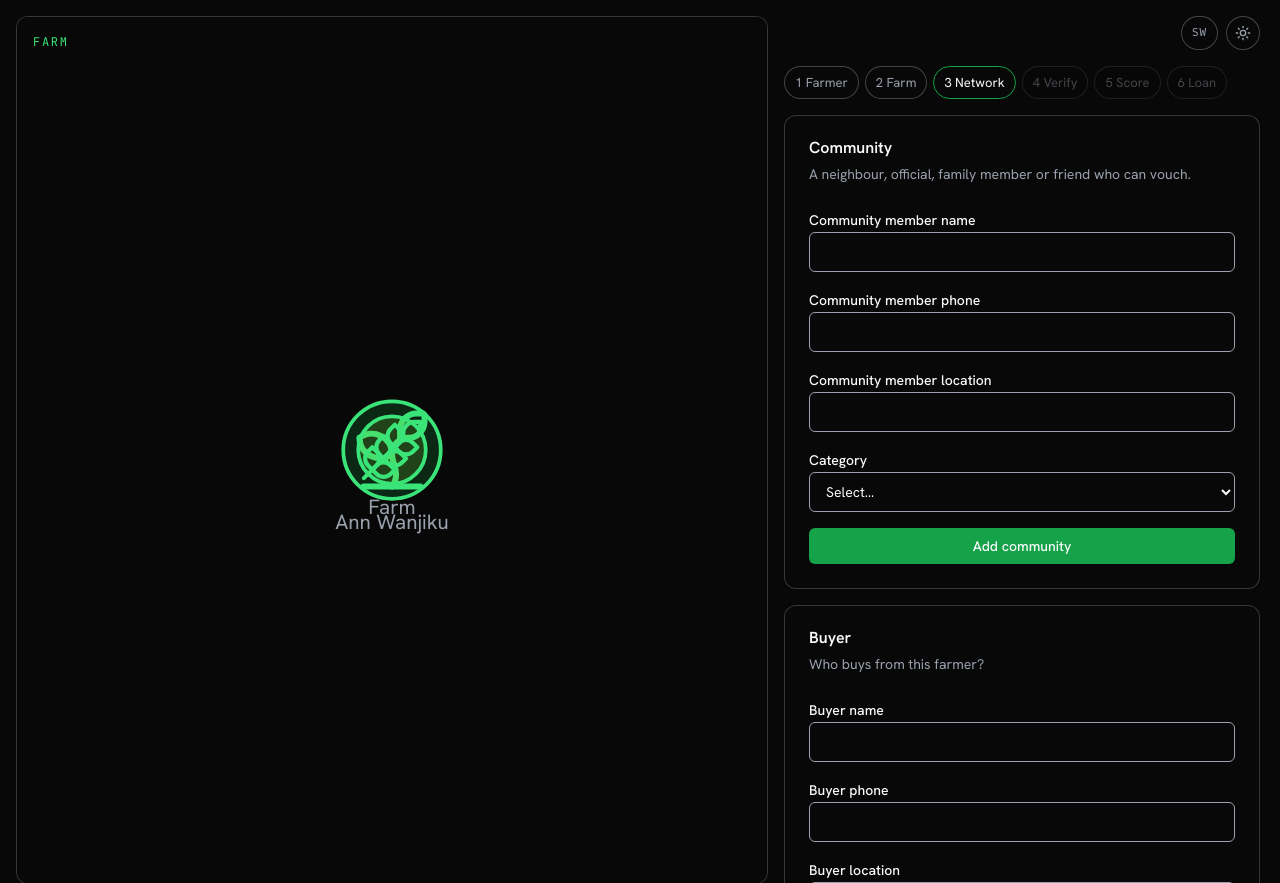
Test: Step 3 — Network › 7. a failed link leaves no ghost node and shows the error
Expected: the button "Add community" is shown, [809,528,1235,564]
In the field labelled "Community member name": (1022, 252) [809,232,1235,272], type "Kariuki"
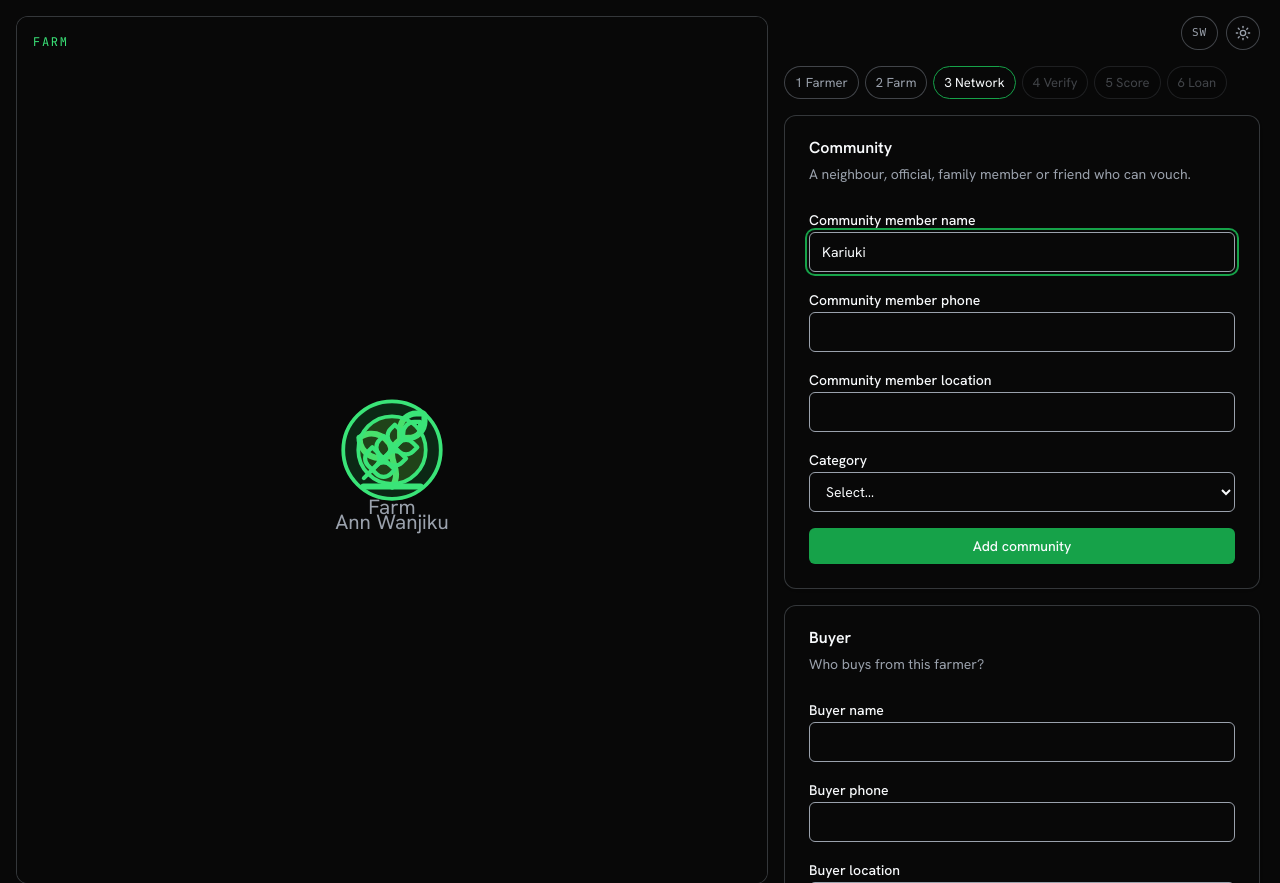
In the field labelled "Community member phone": (1022, 332) [809,312,1235,352], type "0711111111"
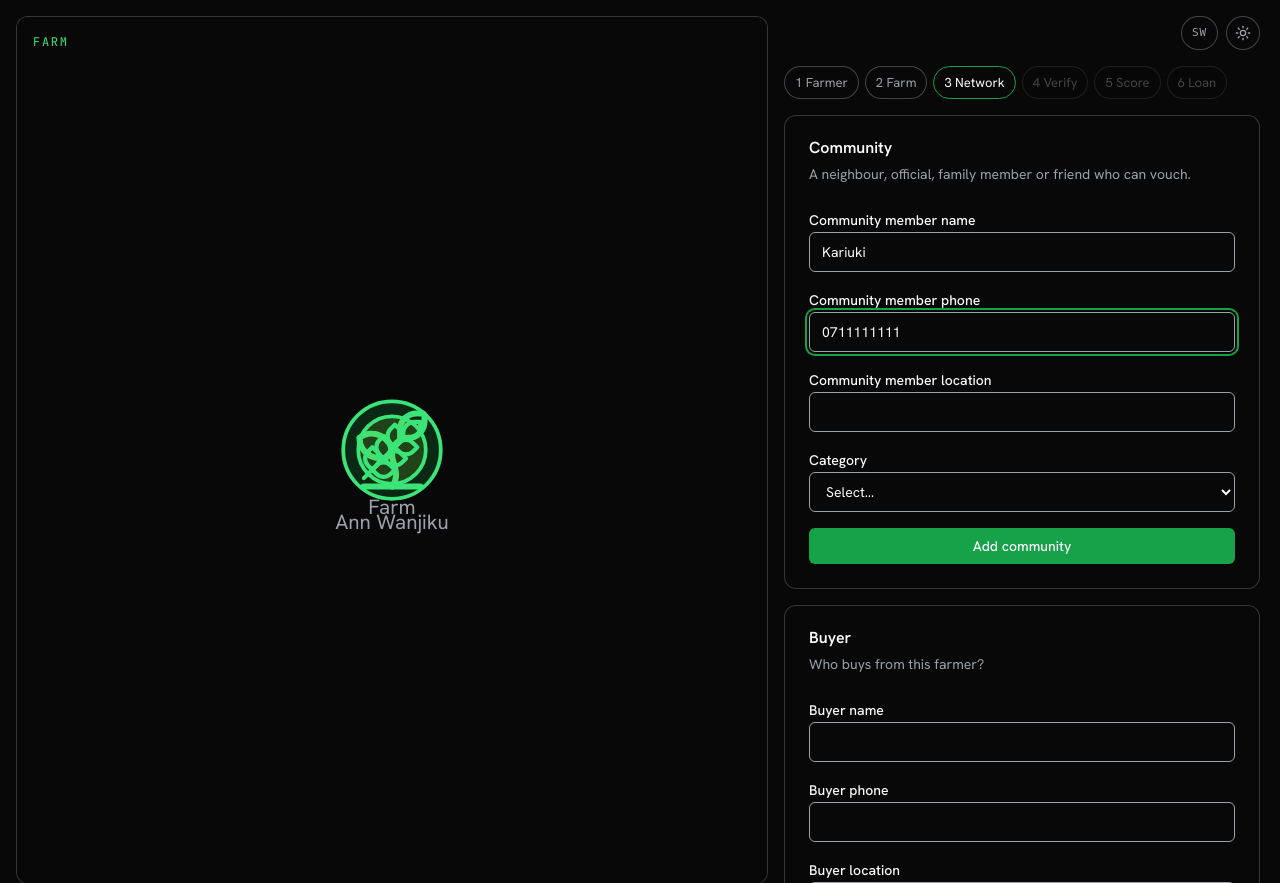
In the field labelled "Community member location": (1022, 412) [809,392,1235,432], type "Nakuru"
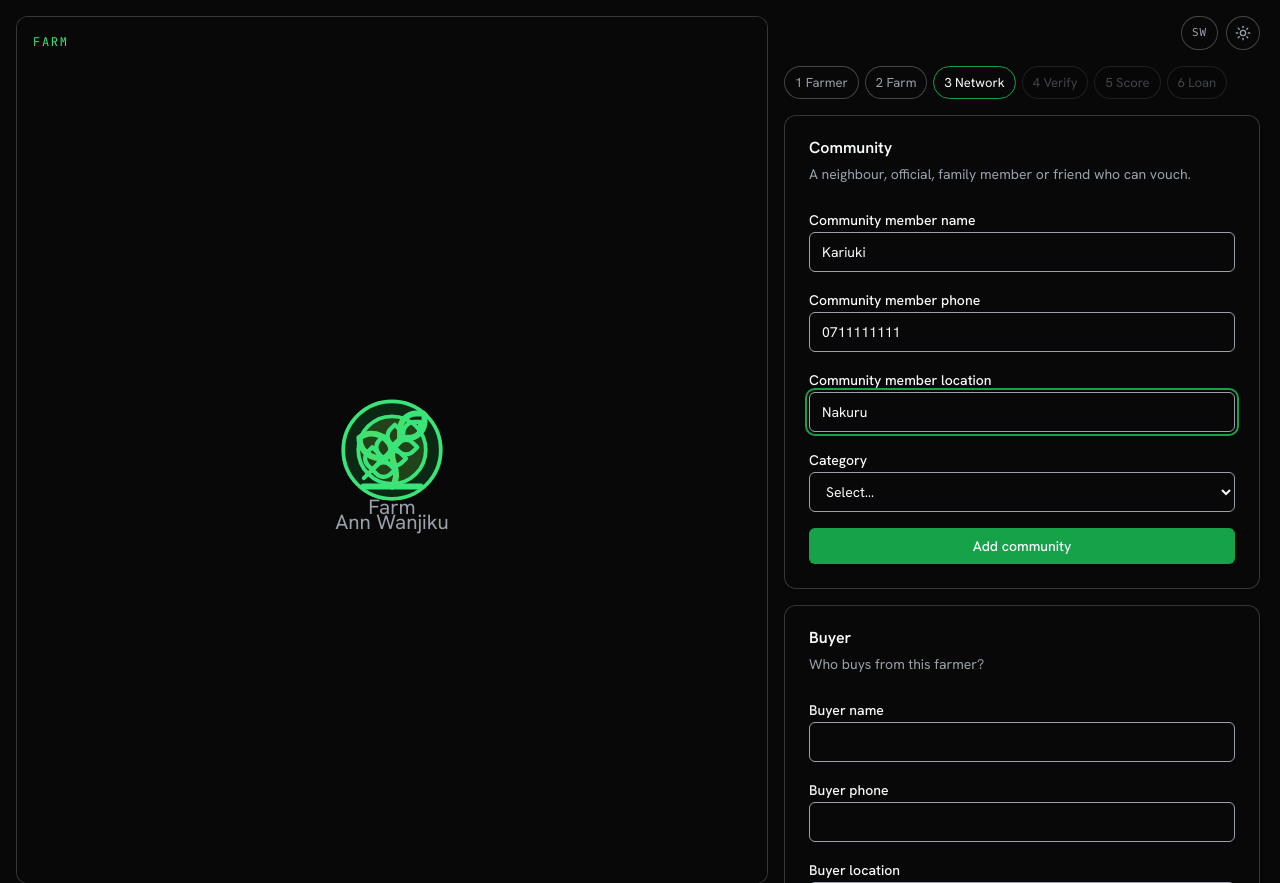
Select "administrative official" in the dropdown labelled "Category": (1022, 492) [809,472,1235,512]
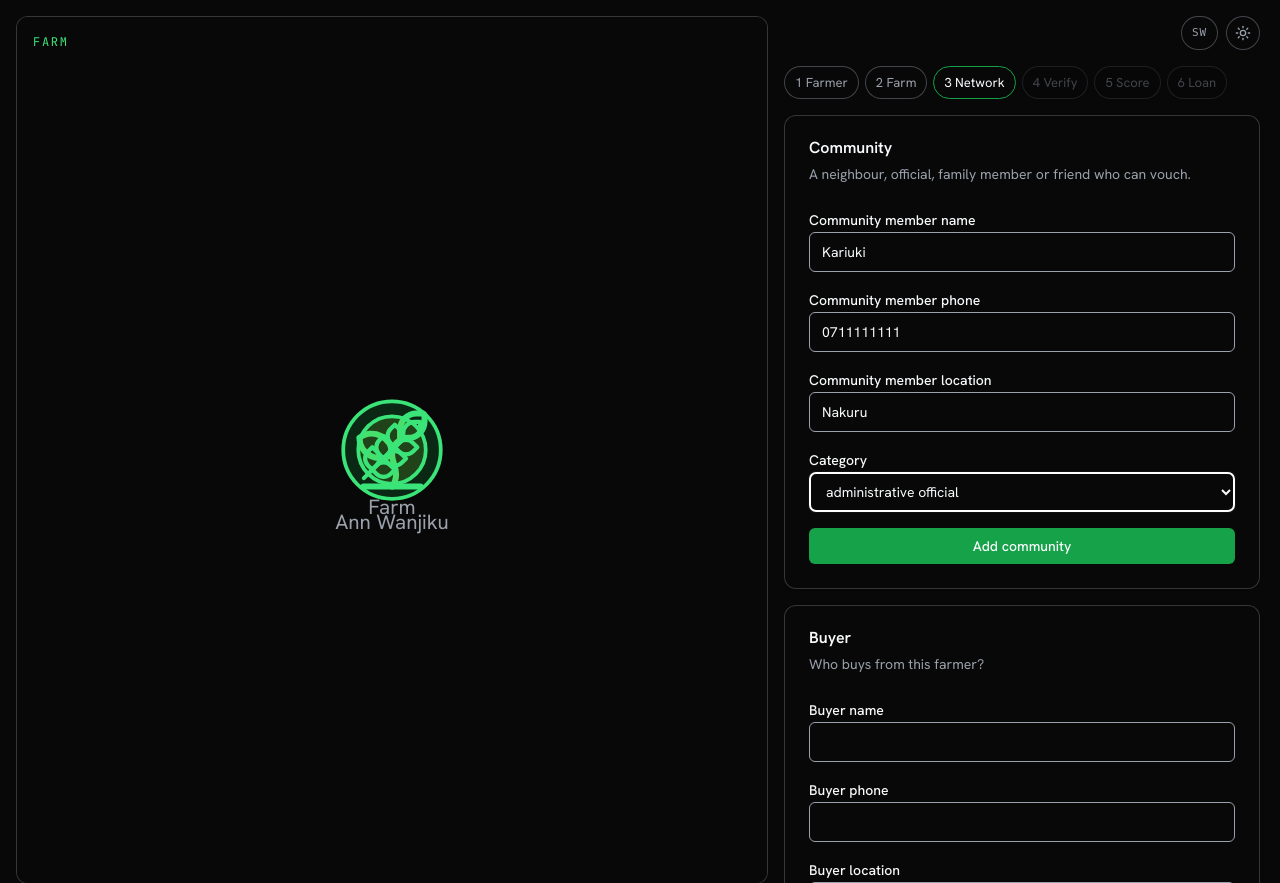
Click the button "Add community": (1022, 546) [809,528,1235,564]
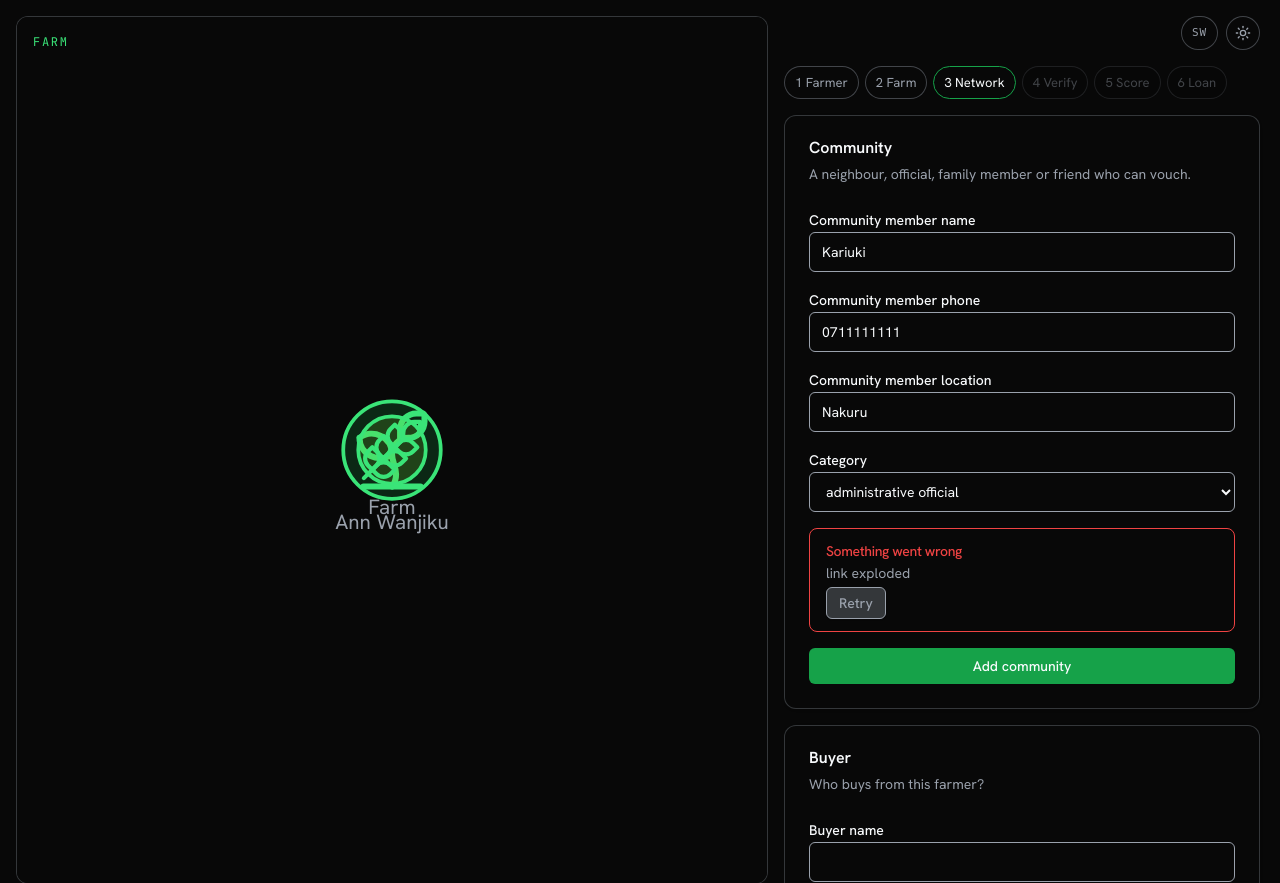
Now the message shows "link exploded", box [826,564,910,582]
